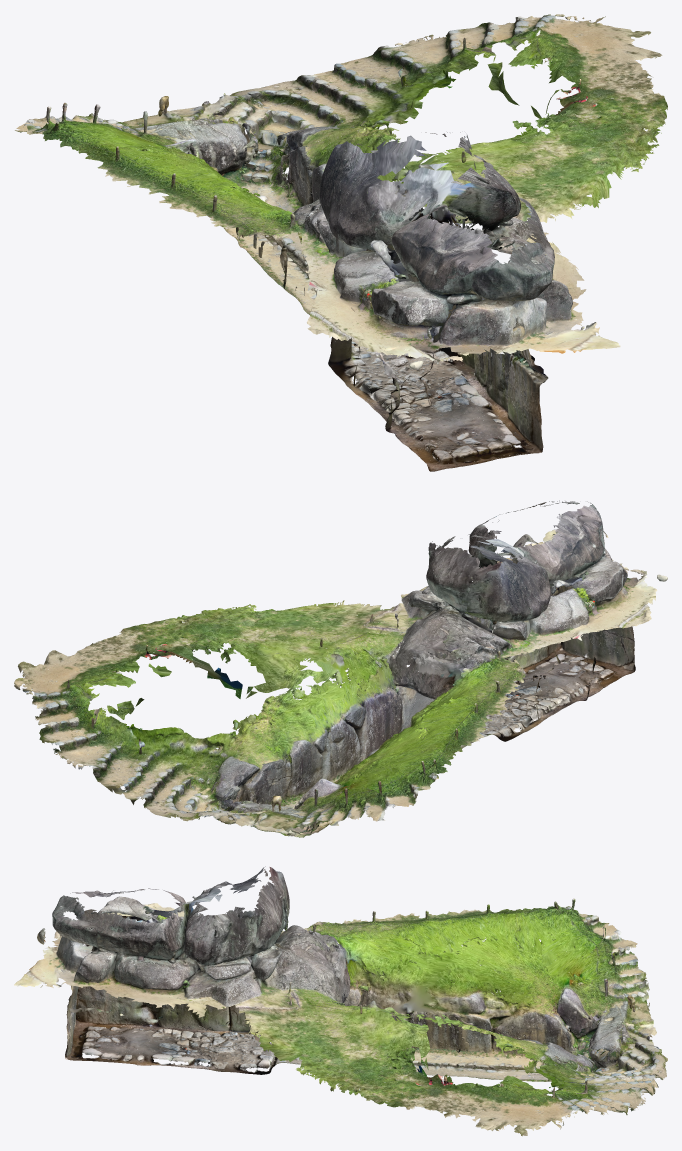
Rendered from ishibutai.glb.
3 views of the same model, one above another, from view 1: azimuth 30°, elevation 25°; view 2: azimuth 150°, elevation 25°; view 3: azimuth 270°, elevation 25° (orthographic). The views are drawn at different scales.
Parts seen in each view (by area): view 1: Object_13, Object_7, Object_14, Object_5, Object_4, Object_9, Object_8, Object_11, Object_10, Object_6, Object_12; view 2: Object_13, Object_14, Object_8, Object_11, Object_5, Object_7, Object_4, Object_9, Object_6, Object_10, Object_12; view 3: Object_13, Object_14, Object_7, Object_4, Object_9, Object_5, Object_8, Object_11, Object_6, Object_10, Object_12.
Boxes of the visible parts, x1,y1,x2,y2 form: Object_13: (136,14,666,453); Object_7: (29,96,584,442); Object_14: (58,14,667,461); Object_5: (27,71,603,446); Object_4: (26,83,620,471); Object_9: (53,111,598,433); Object_8: (16,117,583,462); Object_11: (37,109,555,448); Object_10: (32,116,554,463); Object_6: (15,68,620,459); Object_12: (59,120,572,466); Object_13: (14,502,646,834); Object_14: (14,502,667,837); Object_8: (223,503,625,827); Object_11: (208,504,620,833); Object_5: (141,500,660,832); Object_7: (230,501,657,824); Object_4: (179,501,647,837); Object_9: (221,504,642,833); Object_6: (212,504,666,835); Object_10: (207,524,625,834); Object_12: (215,549,621,823); Object_13: (43,867,661,1136); Object_14: (28,868,667,1127); Object_7: (43,882,653,1079); Object_4: (17,866,647,1081); Object_9: (24,896,638,1078); Object_5: (33,869,649,1081); Object_8: (55,868,646,1075); Object_11: (37,890,653,1081); Object_6: (14,882,656,1081); Object_10: (40,888,633,1081); Object_12: (65,902,641,1073).
Bounding box in the file's own units: 19.09 × 7.24 × 24.56.
Materials: 11 (11 with a texture image).
